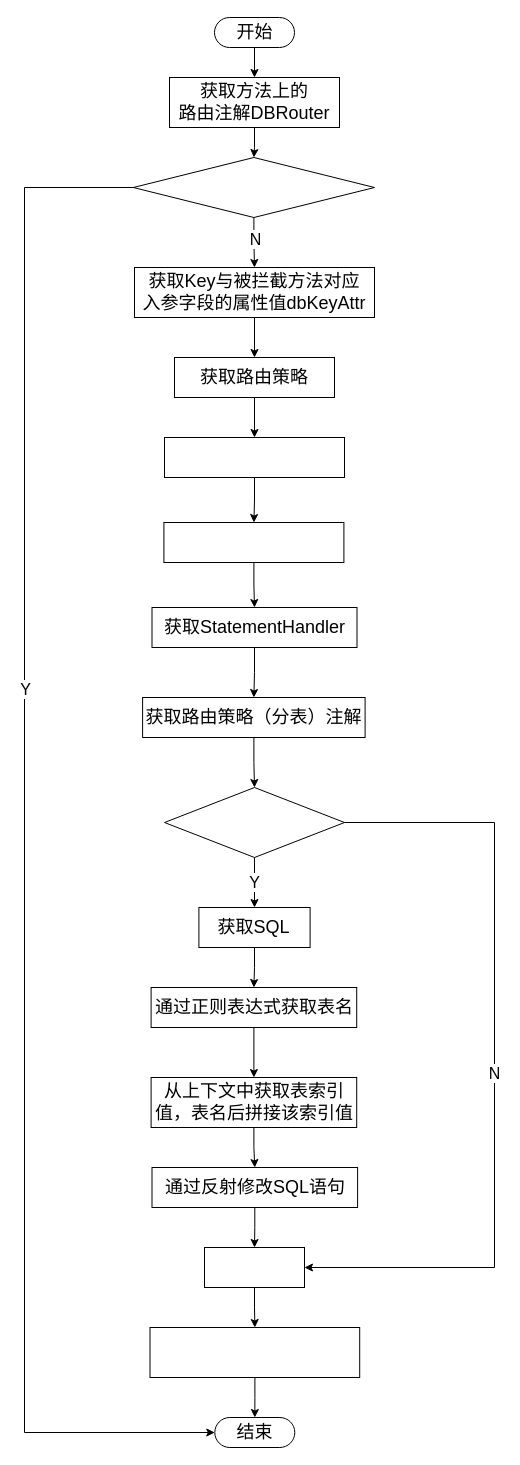
Image size: 520x1465. Some labels were removed from this diagram. The centre of each missing label's shape, as x and y in pixels:
回到切面中 清除上下文的库表位置: point (254, 1352)
回到被切入的方法中: point (254, 457)
执行业务: point (254, 1267)
是否进行分库分表: point (254, 822)
注解中Key或配置中 Key是否为空: point (253, 187)
进入Mybatis拦截器: point (253, 542)
